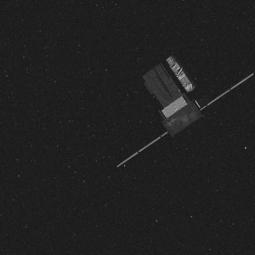soho: (138, 42, 208, 150)
